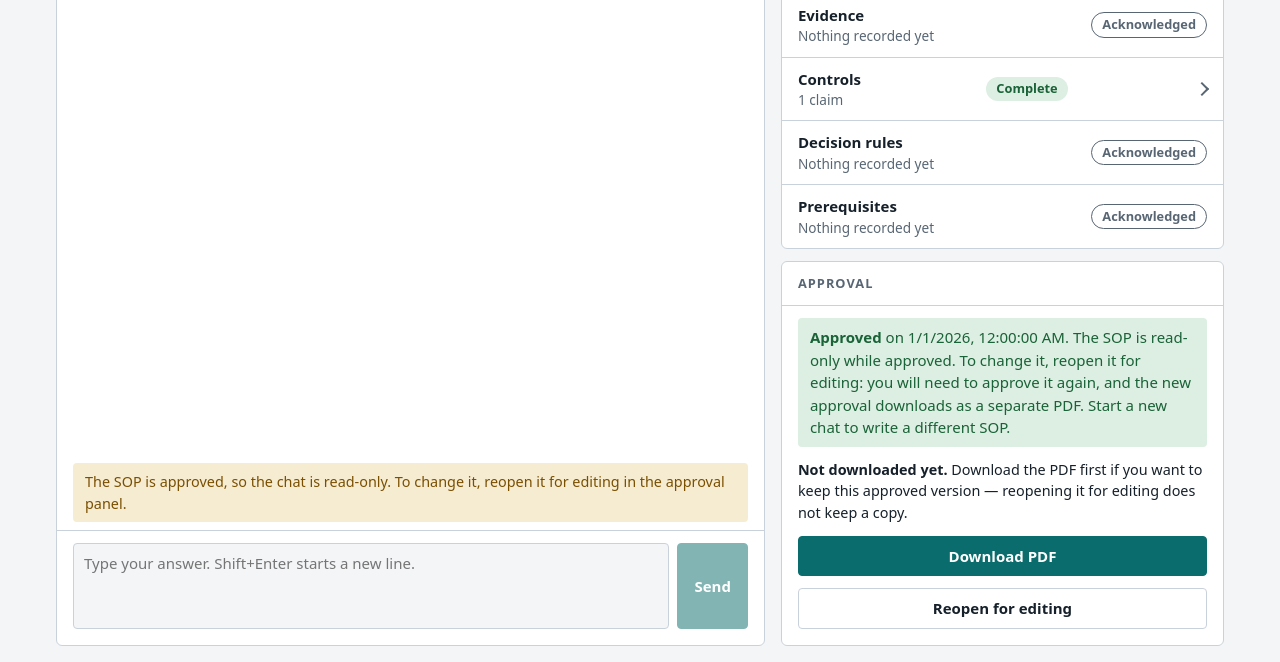
Test: reopening an approved SOP › returns the same session to draft, unlocking the composer, review and upload again
(page scrolled)
Click the button "Reopen for editing" at (1002, 608), box [798,588,1207,629]
(page scrolled)
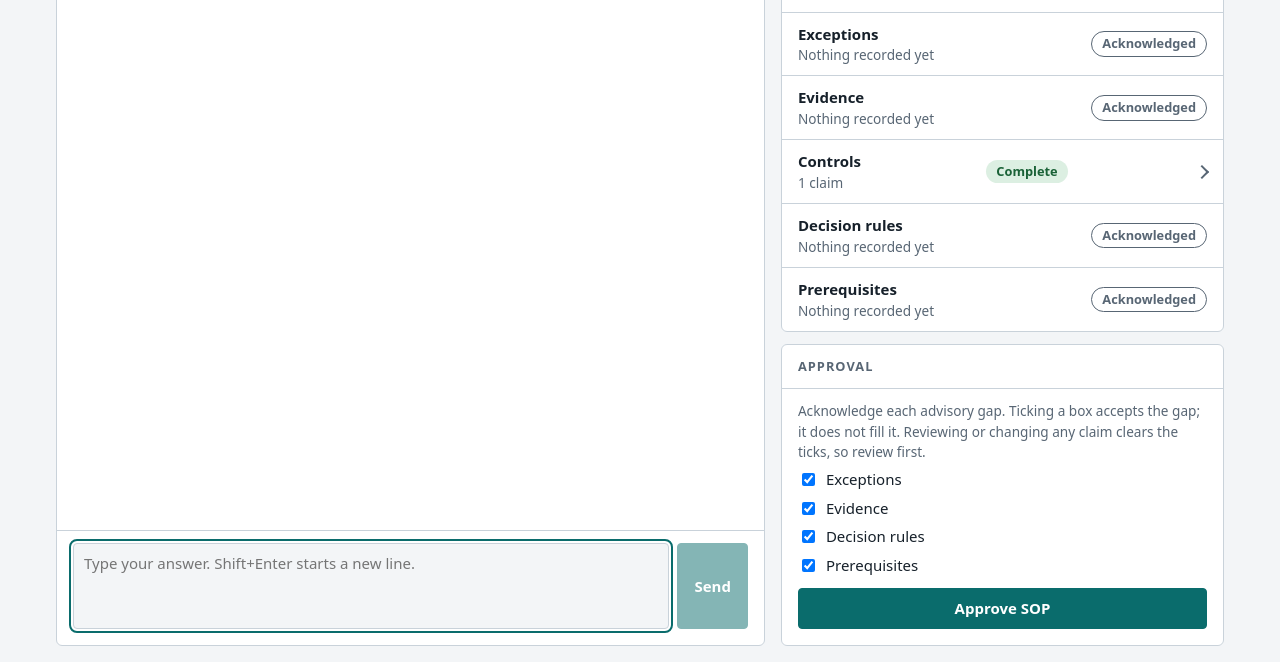
Expected: the text box named "Your message" is enabled, [73,543,669,629]
Expected: the text "The SOP is approved, so the chat is read-only." is gone
Expected: the button "Approve SOP" is shown, [798,588,1207,629]
